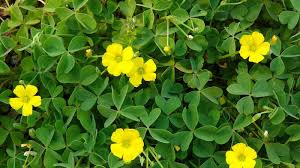clover: (42, 33, 94, 78), (170, 105, 218, 151), (225, 71, 273, 116), (74, 76, 115, 112)
yellow wood sorrel: (109, 127, 145, 164), (101, 41, 134, 78), (7, 84, 42, 116), (239, 30, 270, 64), (126, 56, 157, 87), (225, 141, 258, 168)
